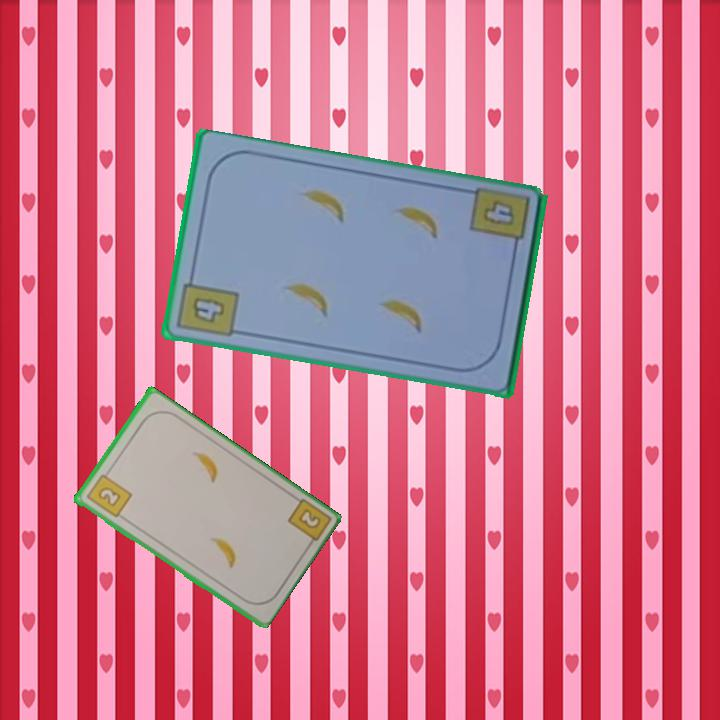2b: (82, 466, 134, 521), (283, 495, 331, 551)
4b: (174, 269, 242, 341), (478, 197, 518, 230)
